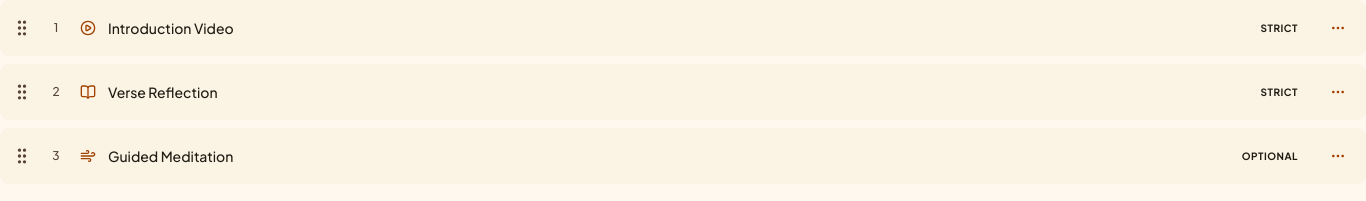
Scenario: SortablePageList › first page does not show 'Move Up' in overflow menu
Click the button named "Actions for Introduction Video". click: (1338, 28)
box: [1322,12,1354,44]
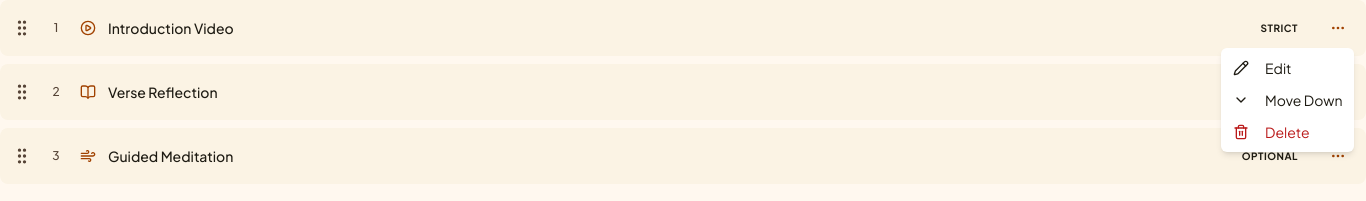
Expected: the menu item "Move Down" is shown, [1233,91,1342,109]
